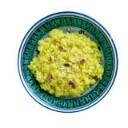venpongal: (36, 29, 101, 94)
